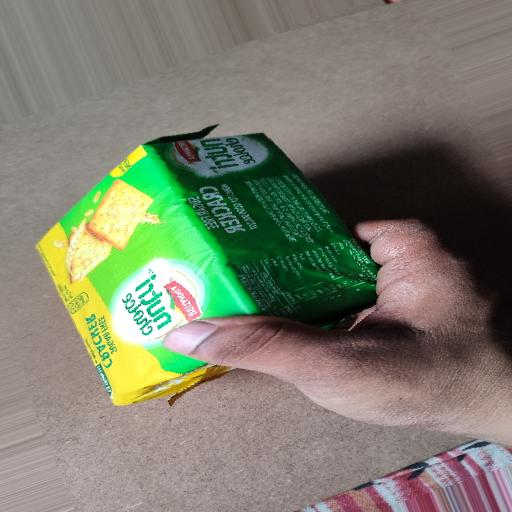Britannia Nutri-choice: (11, 117, 389, 422)
